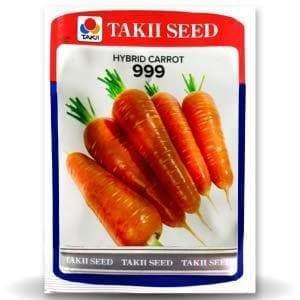carrot: (112, 86, 227, 196), (67, 150, 168, 247), (67, 149, 228, 194)
